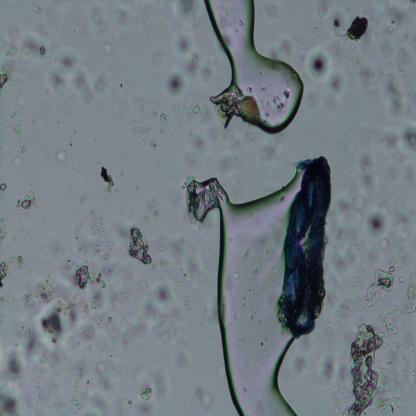Air bubble: (183, 165, 301, 415), (201, 0, 305, 132)
Background material: (330, 148, 378, 275), (342, 320, 404, 414), (112, 277, 186, 353), (21, 282, 96, 352), (46, 42, 111, 102), (134, 98, 202, 141), (300, 42, 347, 95), (64, 247, 112, 296), (381, 274, 416, 336), (363, 258, 399, 308), (155, 238, 202, 276), (313, 349, 355, 391), (366, 200, 404, 244), (173, 24, 203, 77), (376, 5, 410, 49), (119, 224, 154, 265), (136, 366, 167, 412), (381, 114, 416, 152), (21, 18, 52, 60), (354, 62, 382, 104), (237, 93, 261, 135), (287, 347, 314, 383), (333, 15, 371, 40), (1, 348, 24, 388), (84, 208, 111, 240), (163, 67, 189, 100), (174, 0, 206, 26), (0, 42, 17, 88), (14, 190, 40, 218), (91, 356, 113, 388), (99, 166, 118, 200), (386, 76, 402, 115), (72, 356, 83, 411), (12, 116, 27, 153), (0, 390, 22, 415), (194, 387, 212, 410), (142, 200, 158, 224), (55, 146, 71, 166), (0, 217, 11, 242), (0, 259, 8, 290), (0, 109, 13, 128), (36, 353, 47, 371), (0, 178, 10, 196), (10, 156, 24, 168)
Cotton: (278, 153, 333, 336)
